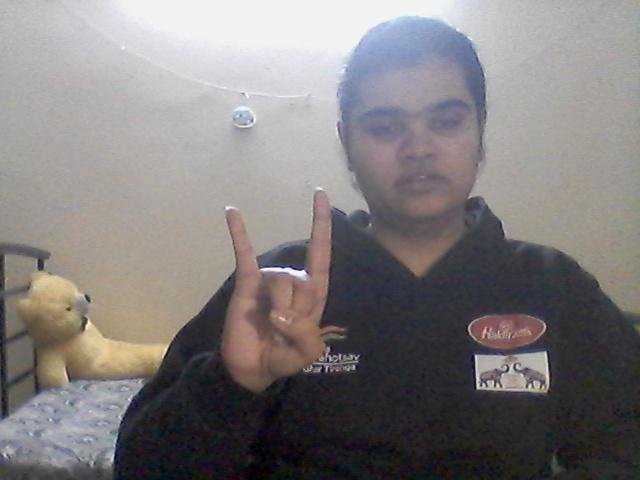ilove you: (214, 175, 333, 388)
